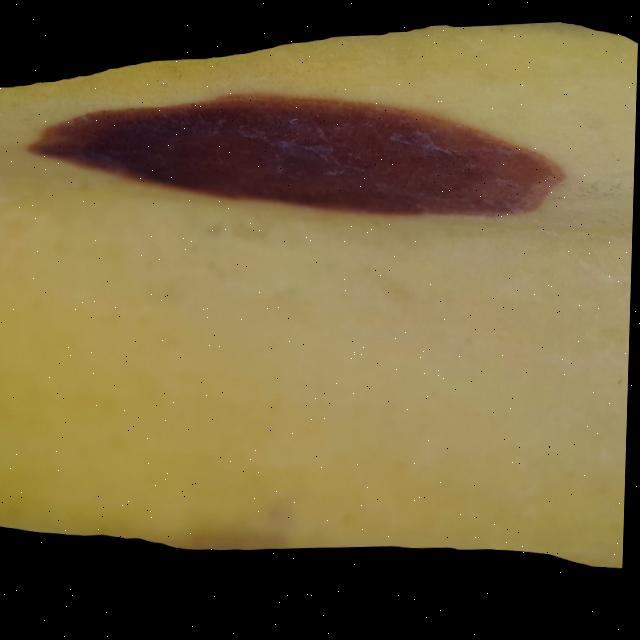mite: (230, 98, 540, 230), (266, 112, 374, 188), (387, 128, 438, 159), (151, 66, 187, 89), (611, 375, 631, 400), (204, 223, 227, 241), (283, 116, 306, 134), (167, 65, 188, 84), (150, 75, 169, 90), (615, 380, 630, 396), (287, 119, 302, 130), (174, 70, 185, 81), (618, 383, 627, 392), (154, 78, 164, 86), (615, 162, 624, 170), (499, 31, 507, 38)
sunburn: (25, 83, 571, 240)
